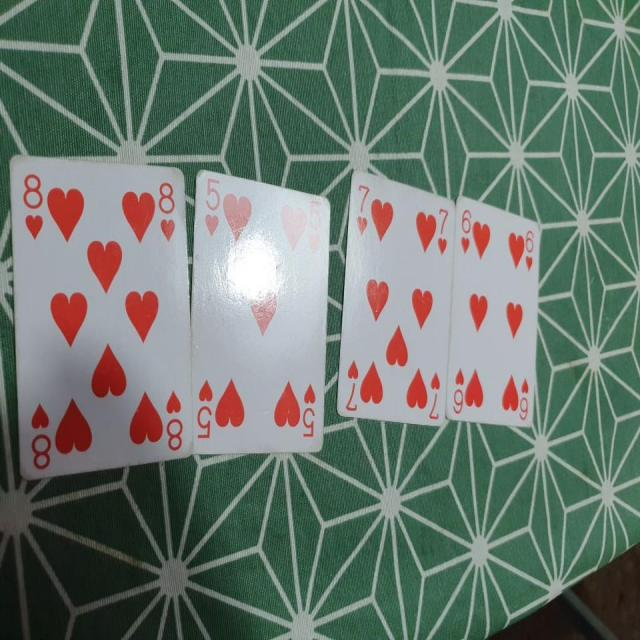5 Hearts: (187, 167, 339, 480)
6 Hearts: (444, 191, 545, 430)
7 Hearts: (333, 161, 456, 430)
8 Hearts: (6, 140, 197, 481)
